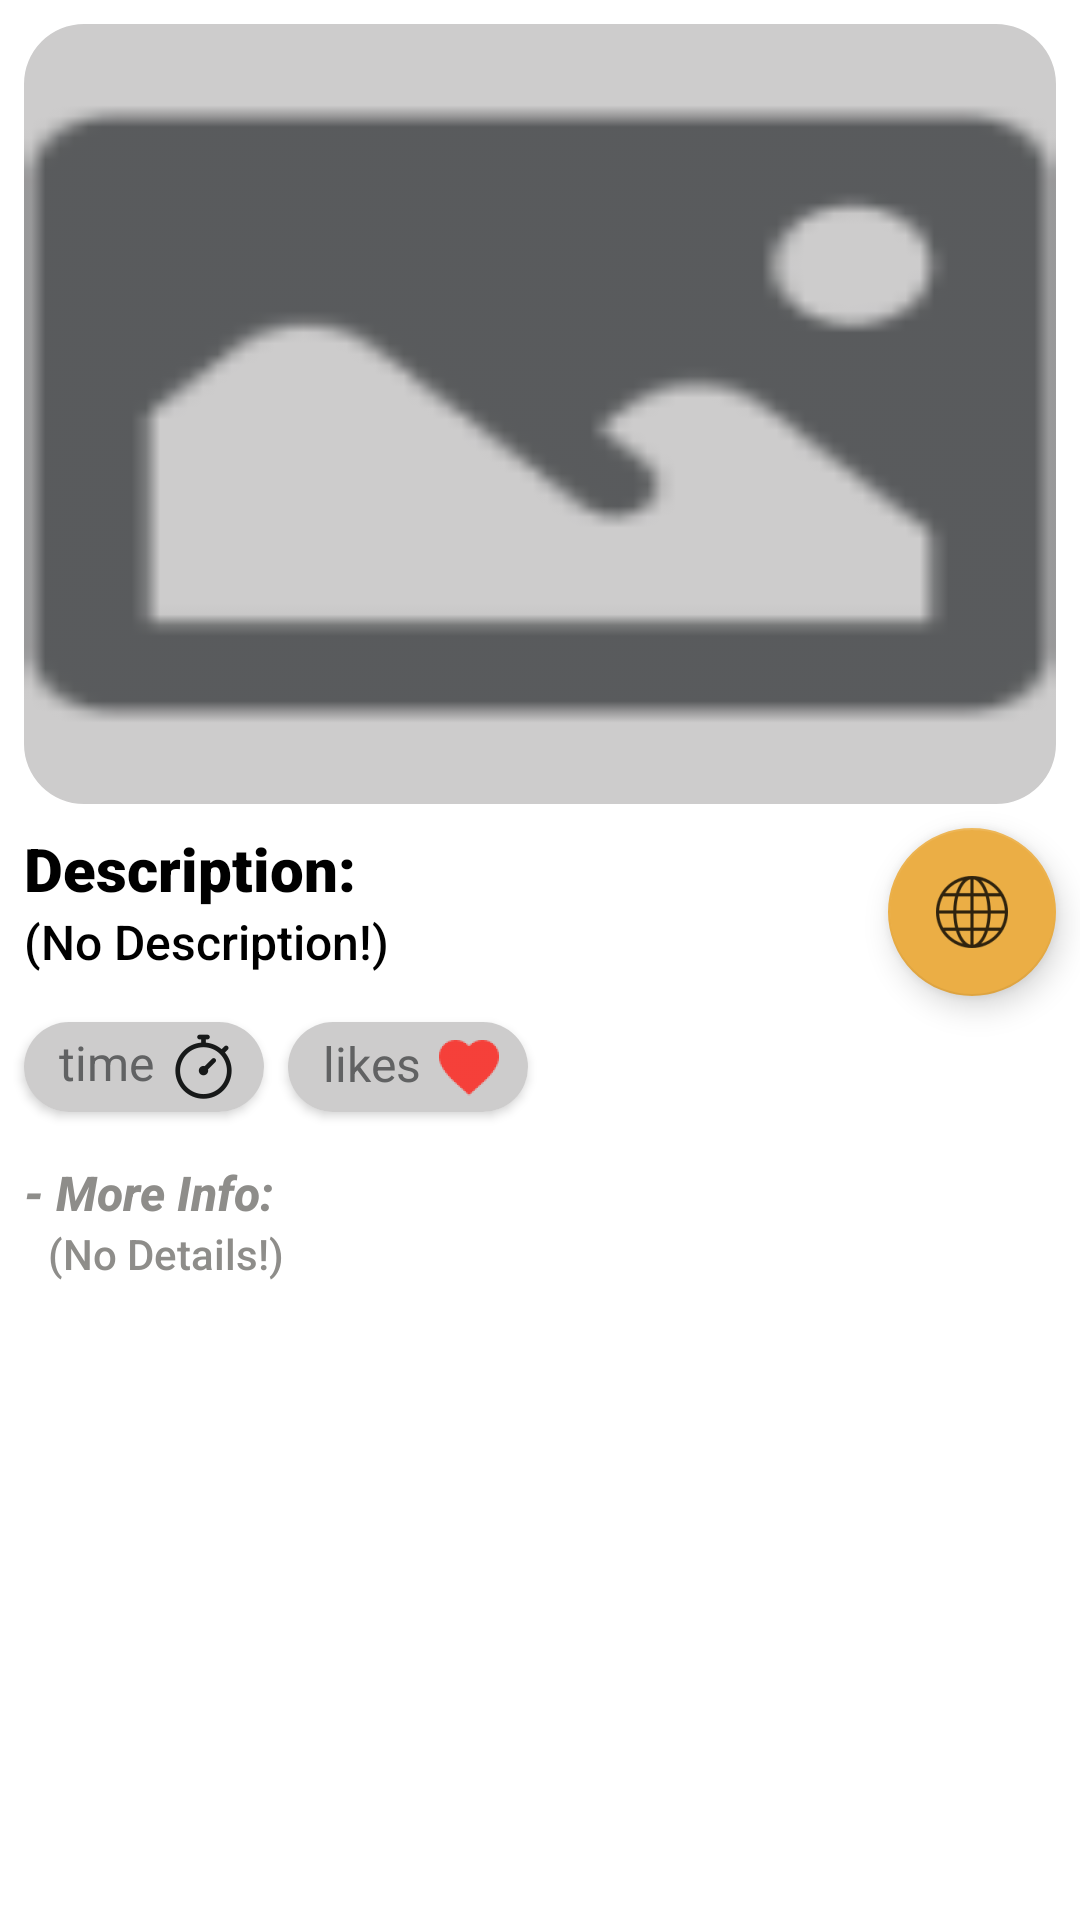

Screen size 1080px x 1920px. Icon name, then its center in pixels as (x,y):
go to web: (972,912)
